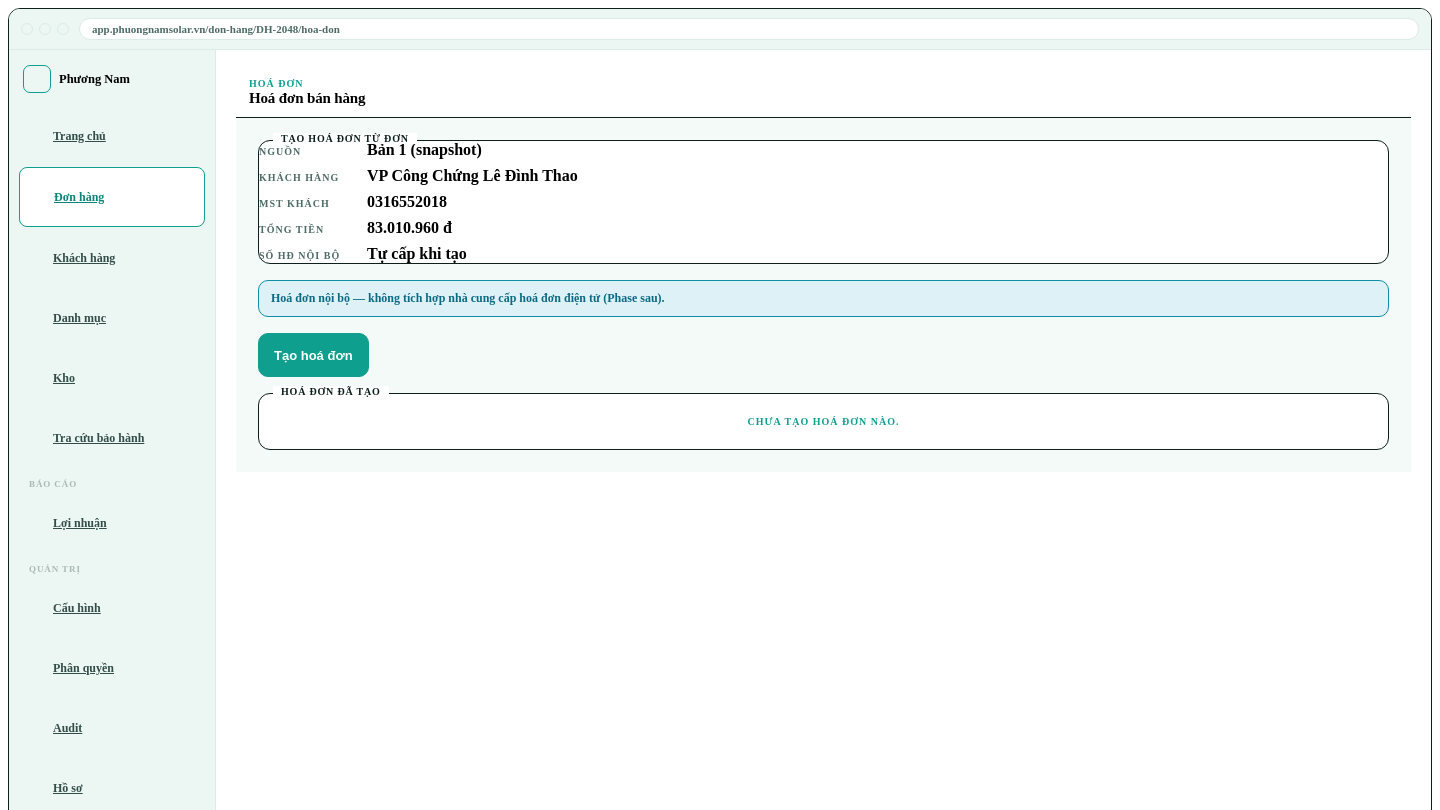
Scenario: InvoicesScreen — create › keeps the last good view when the reload after a refusal fails
Click the button "Tạo hoá đơn" at (313, 355), box [258,333,369,377]
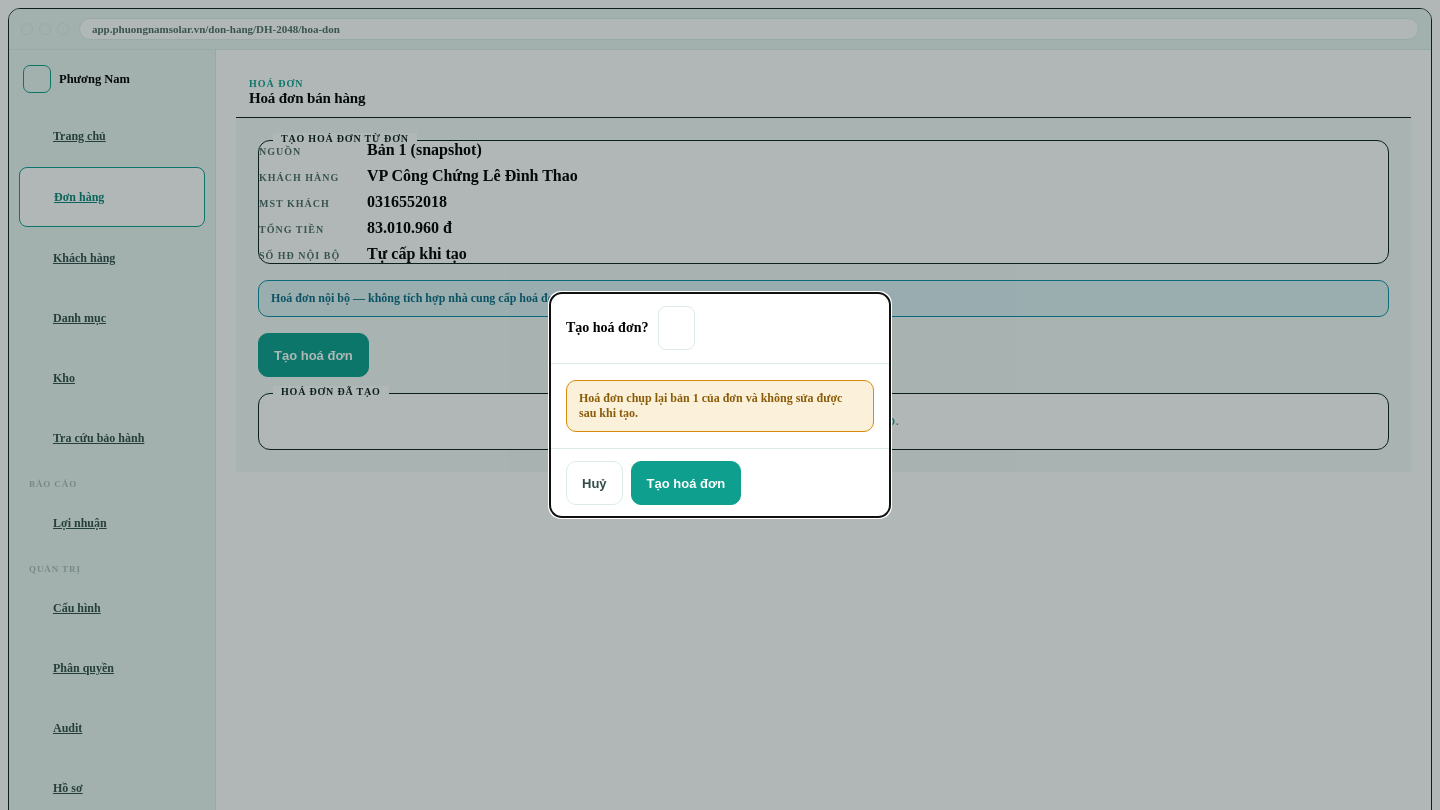
Click the button "Tạo hoá đơn" at (686, 483), box [631,461,741,505]
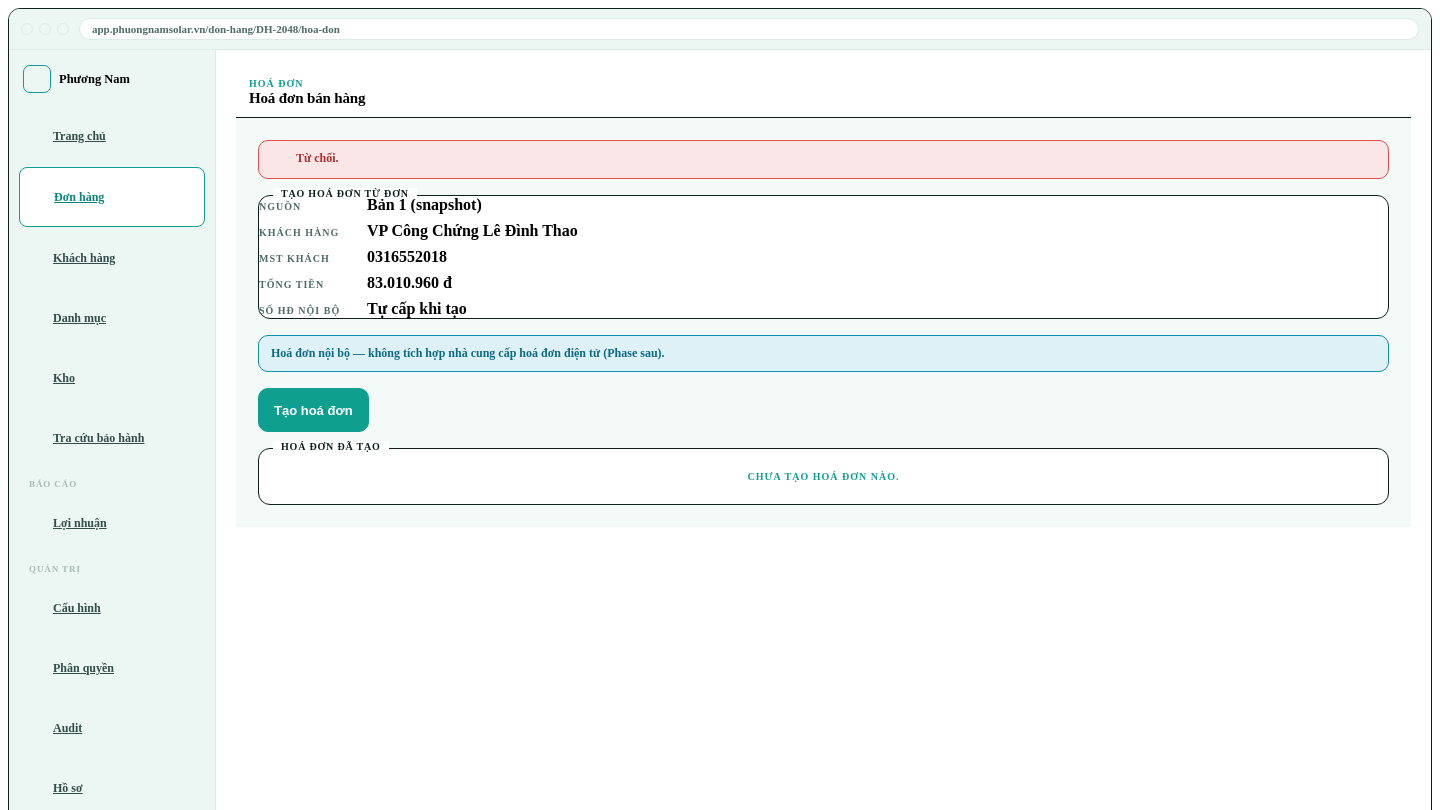
Expected: the text "Tạo hoá đơn từ đơn" is shown, [273,188,417,199]
Expected: the text "Từ chối." is shown, [258,140,1389,179]
